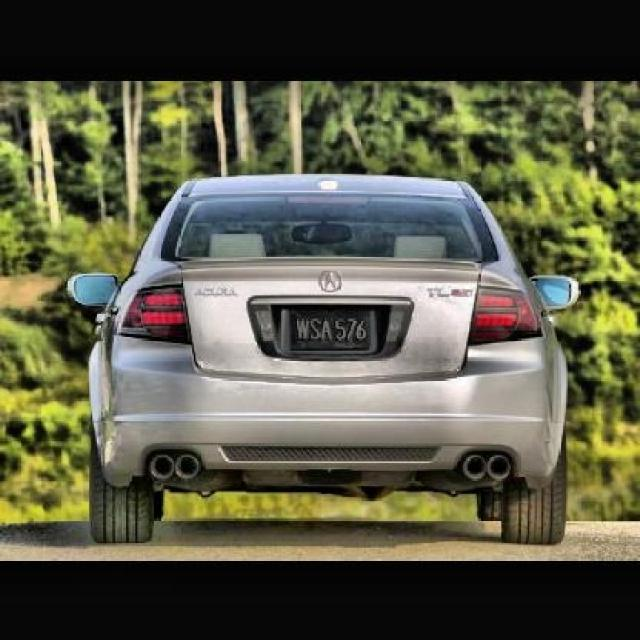silver: (70, 179, 570, 548)
